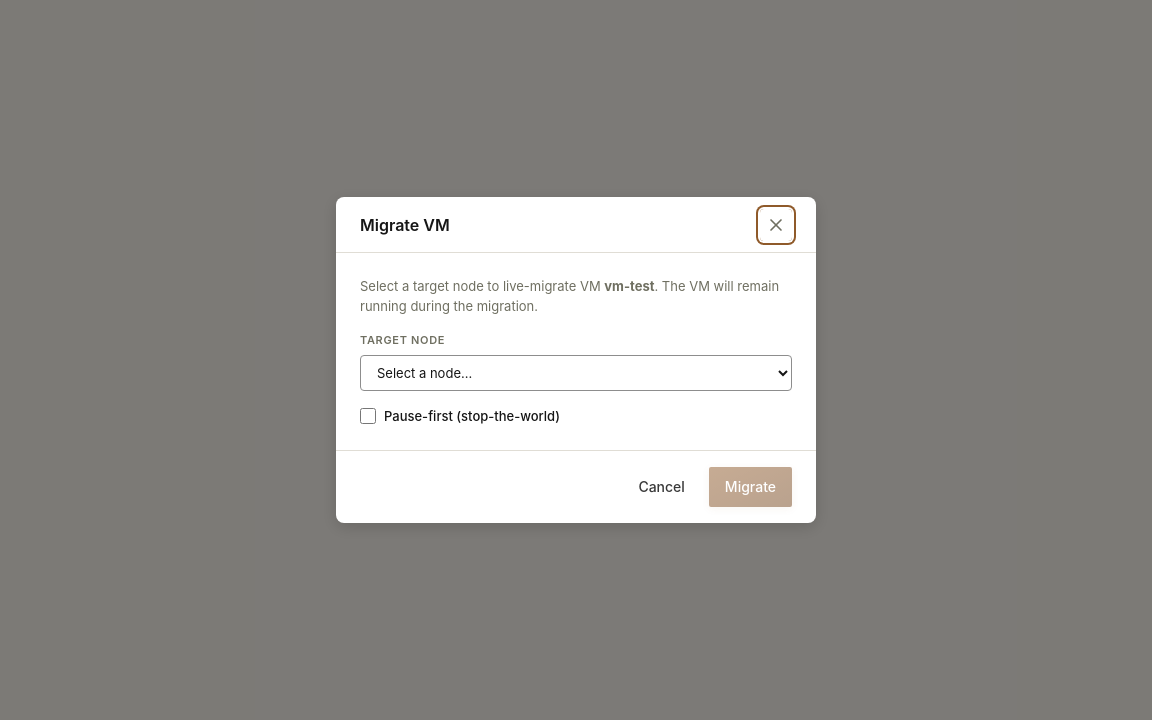
Test: VmMigrateModal › shows the honest downtime warning when pause-first is checked
Click the checkbox labelled "Pause-first (stop-the-world)": (368, 416) [360,408,376,424]
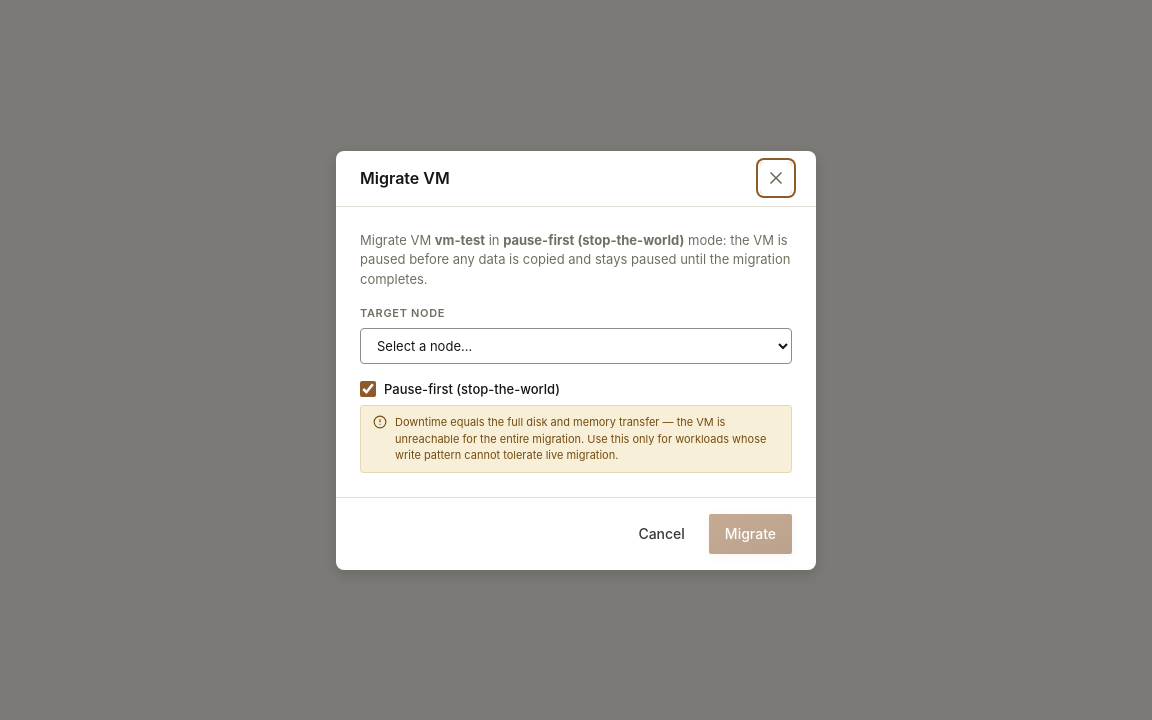
Result: the text "Downtime equals the full disk and memory transfer" is shown at [395,415,766,462]
Result: the text "paused before any data is copied" is shown at [360,232,790,286]
Result: the text "will remain running during the migration" is gone
